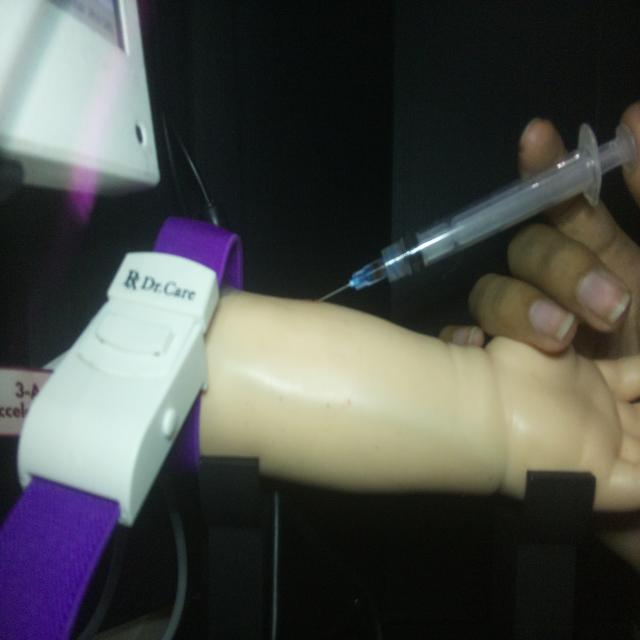17 degrees: (315, 118, 636, 305)
